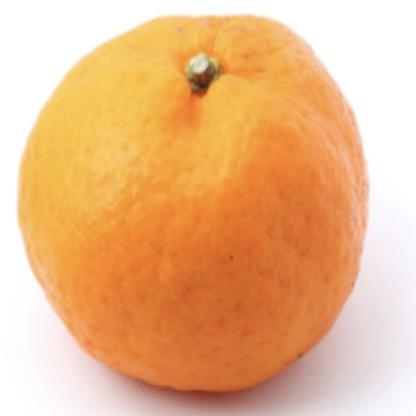fresh: (19, 15, 368, 394)
